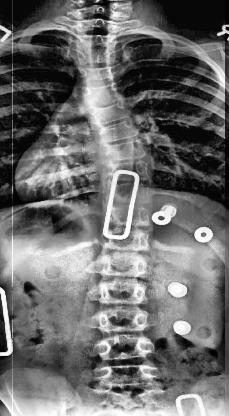Vertebrae: (97, 360, 158, 388), (98, 249, 148, 279), (99, 278, 149, 306), (97, 337, 154, 361), (98, 309, 150, 335), (99, 225, 149, 252), (100, 201, 150, 226), (102, 156, 150, 182), (101, 182, 150, 206), (86, 101, 132, 124), (80, 82, 124, 104), (96, 121, 140, 143), (102, 139, 146, 161), (76, 63, 118, 82), (74, 31, 118, 49), (76, 48, 119, 66), (75, 18, 119, 34), (76, 6, 119, 20)
